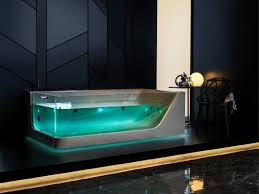bathub: (26, 83, 188, 152)
